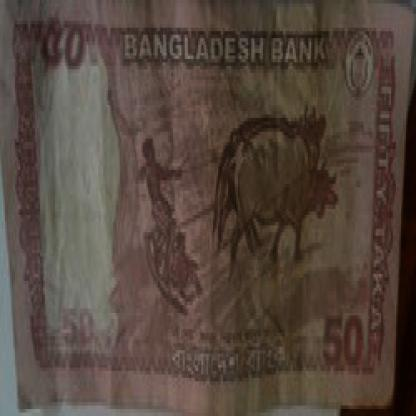Fifty taka: (35, 17, 96, 94), (316, 301, 366, 384)
